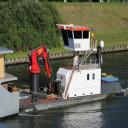tugboat: (15, 23, 126, 118)
